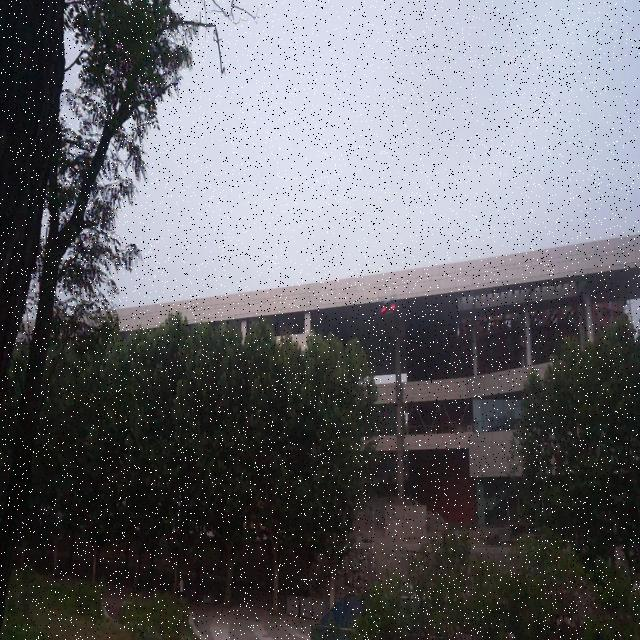UAV: (377, 294, 399, 315)
